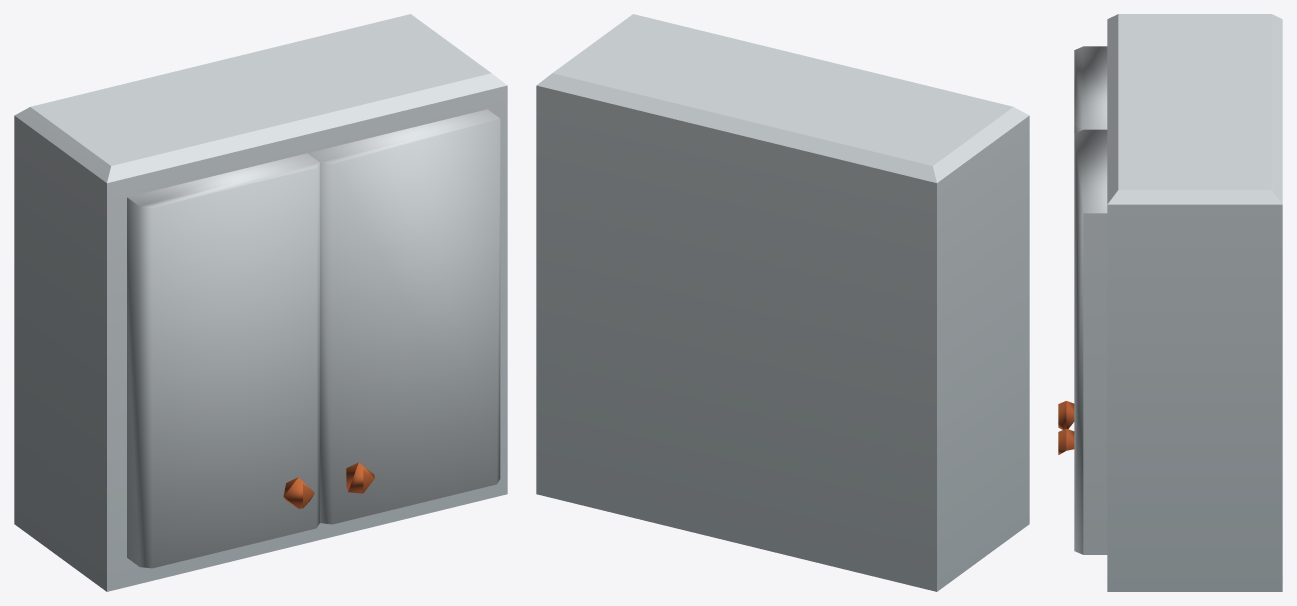
The model's file is cc0-kitchencabinet-lod1.glb.
3 views of the same model, side by side, from view 1: azimuth 30°, elevation 25°; view 2: azimuth 150°, elevation 25°; view 3: azimuth 270°, elevation 25° (orthographic). The views are drawn at different scales.
Visible parts, largest first — view 1: part_0; view 2: part_0; view 3: part_0.
Part boxes in pixels (bbox=[...]): part_0: bbox=[14, 14, 507, 591]; part_0: bbox=[536, 14, 1029, 591]; part_0: bbox=[1058, 14, 1282, 591].
Size of the model in its own units: 2 by 2 by 1.02.
1 material, 1 textured.
